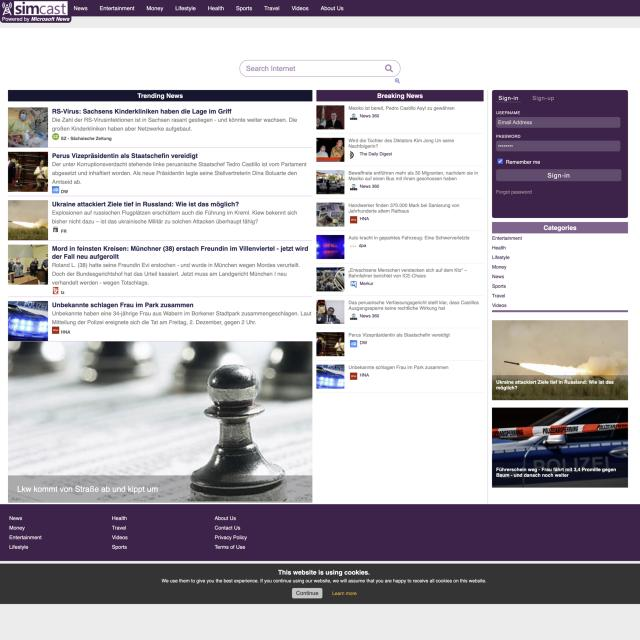content: (8, 107, 312, 341), (317, 104, 484, 393)
footer: (0, 505, 640, 562)
input: (240, 59, 402, 78)
logo: (0, 0, 70, 23)
navigation: (492, 235, 530, 309), (72, 3, 347, 13)
